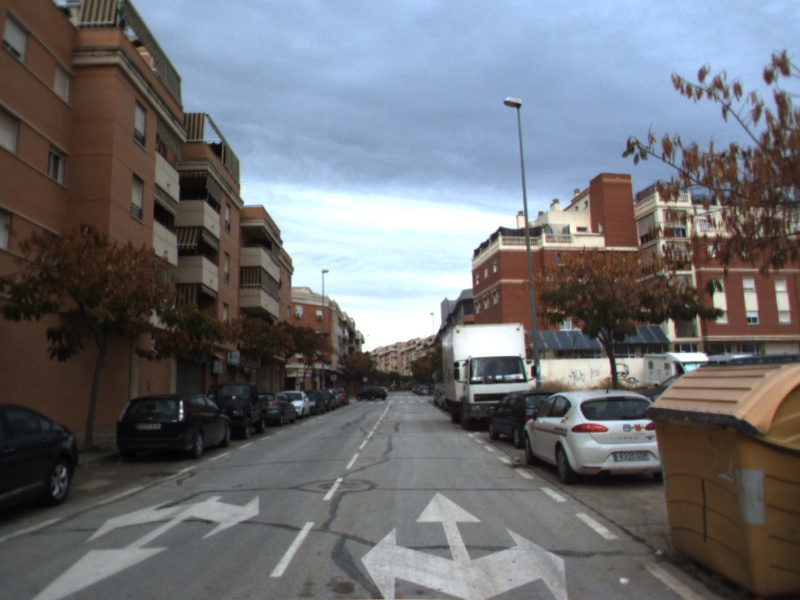STRAIGHT_LEFT_RIGHT: (358, 487, 570, 600)
